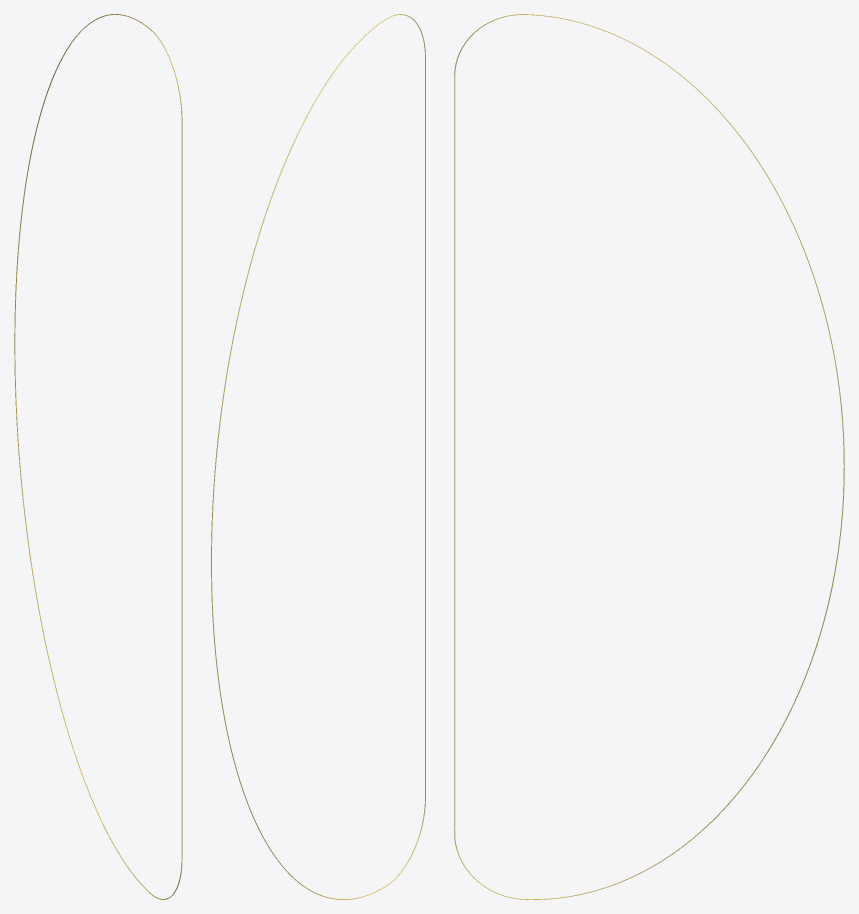
The model's file is coil_coil_5_wire.gltf.
The picture shows the model from 3 angles, left to right: view 1: azimuth 30°, elevation 25°; view 2: azimuth 150°, elevation 25°; view 3: azimuth 270°, elevation 25°; orthographic projection. The views are drawn at different scales.
Parts seen in each view (by area): view 1: Renderer Node; view 2: Renderer Node; view 3: Renderer Node.
Part boxes in pixels (x1,y1,x2,y2): Renderer Node: (14,14,182,899); Renderer Node: (211,14,425,899); Renderer Node: (454,14,844,899).
Size of the model in its own units: 0.0038 by 0.1321 by 0.0528.
